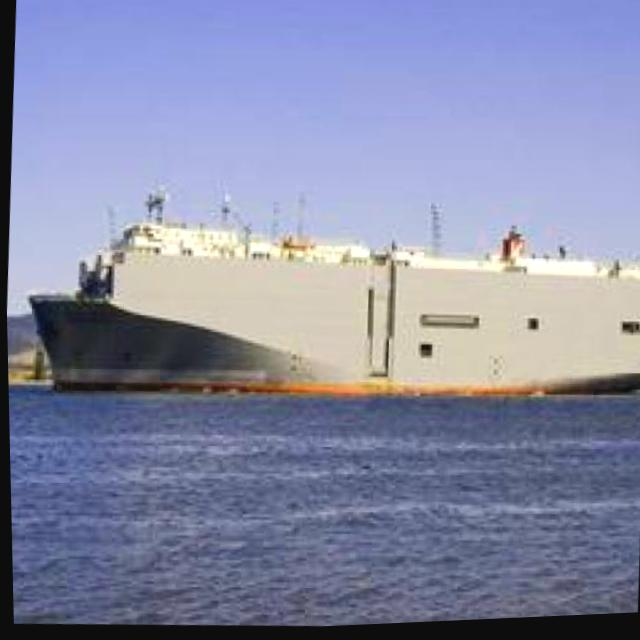ship2: (25, 195, 640, 402)
